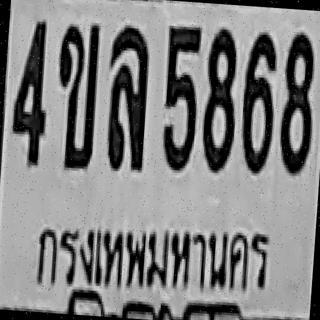A02: (52, 20, 101, 169)
N04: (8, 16, 53, 167)
N05: (158, 23, 202, 171)
N06: (238, 28, 278, 174)
N08: (199, 24, 240, 172), (276, 29, 317, 174)
P04: (24, 202, 277, 306)
